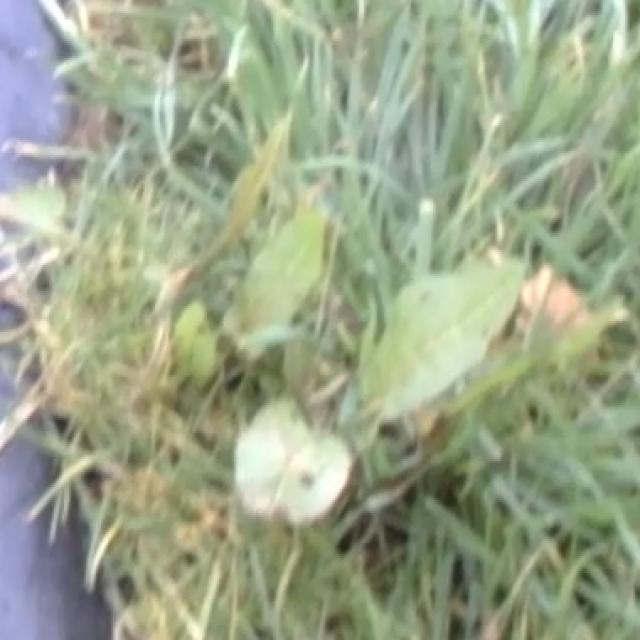organic waste: (129, 174, 515, 501)
